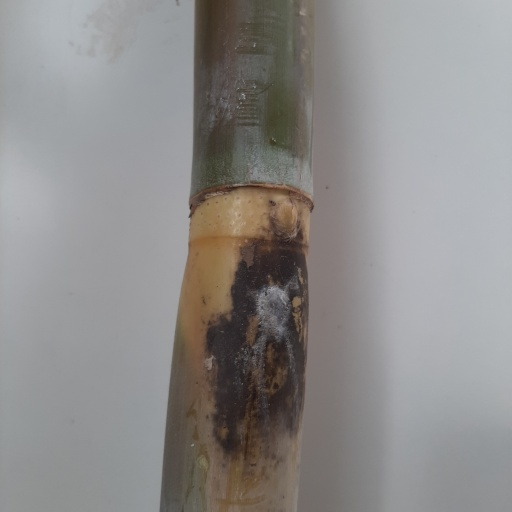Bud: (269, 198, 301, 239)
